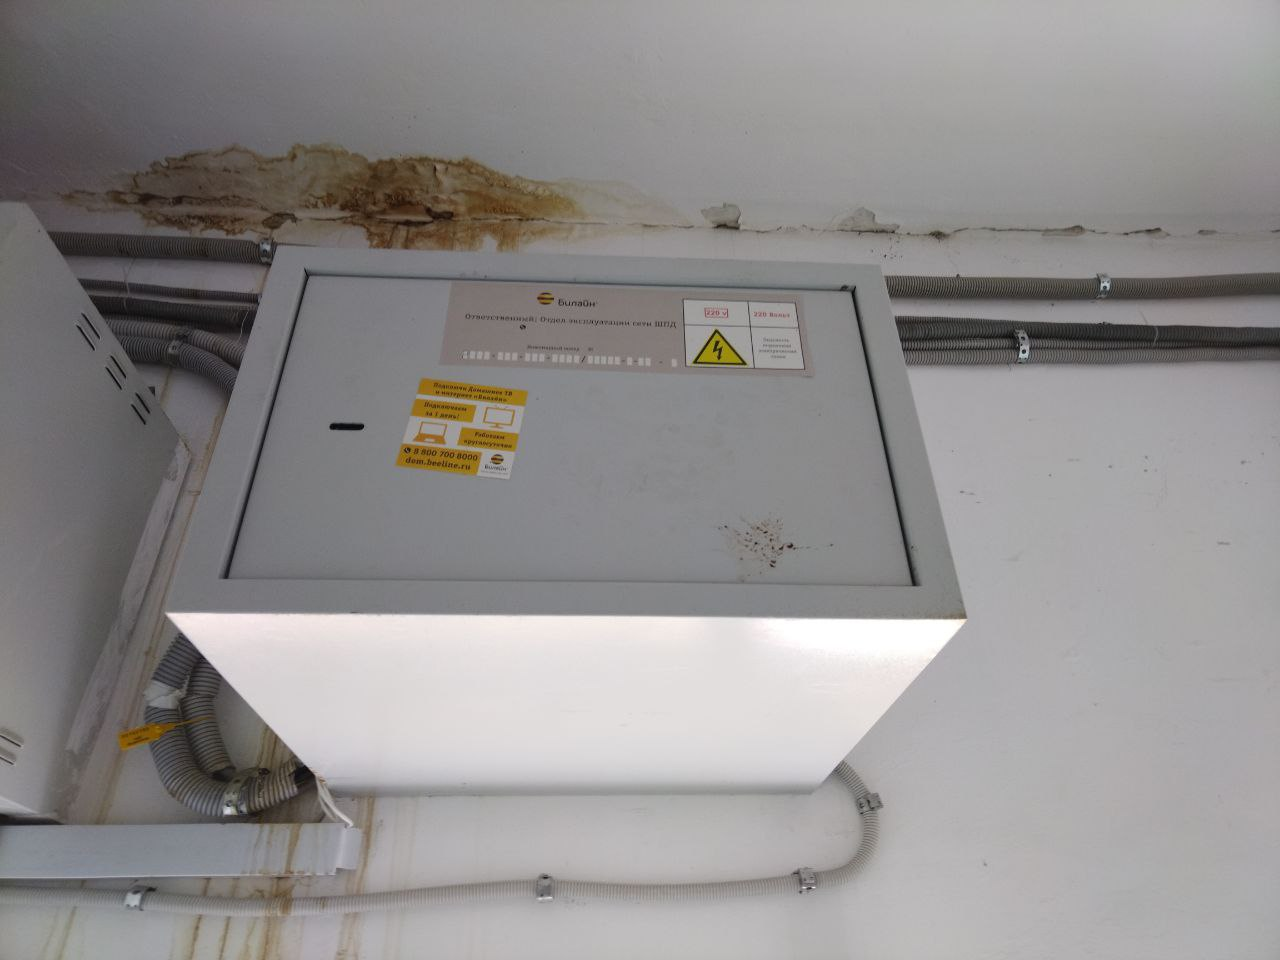shta-7m: (155, 237, 976, 809)
